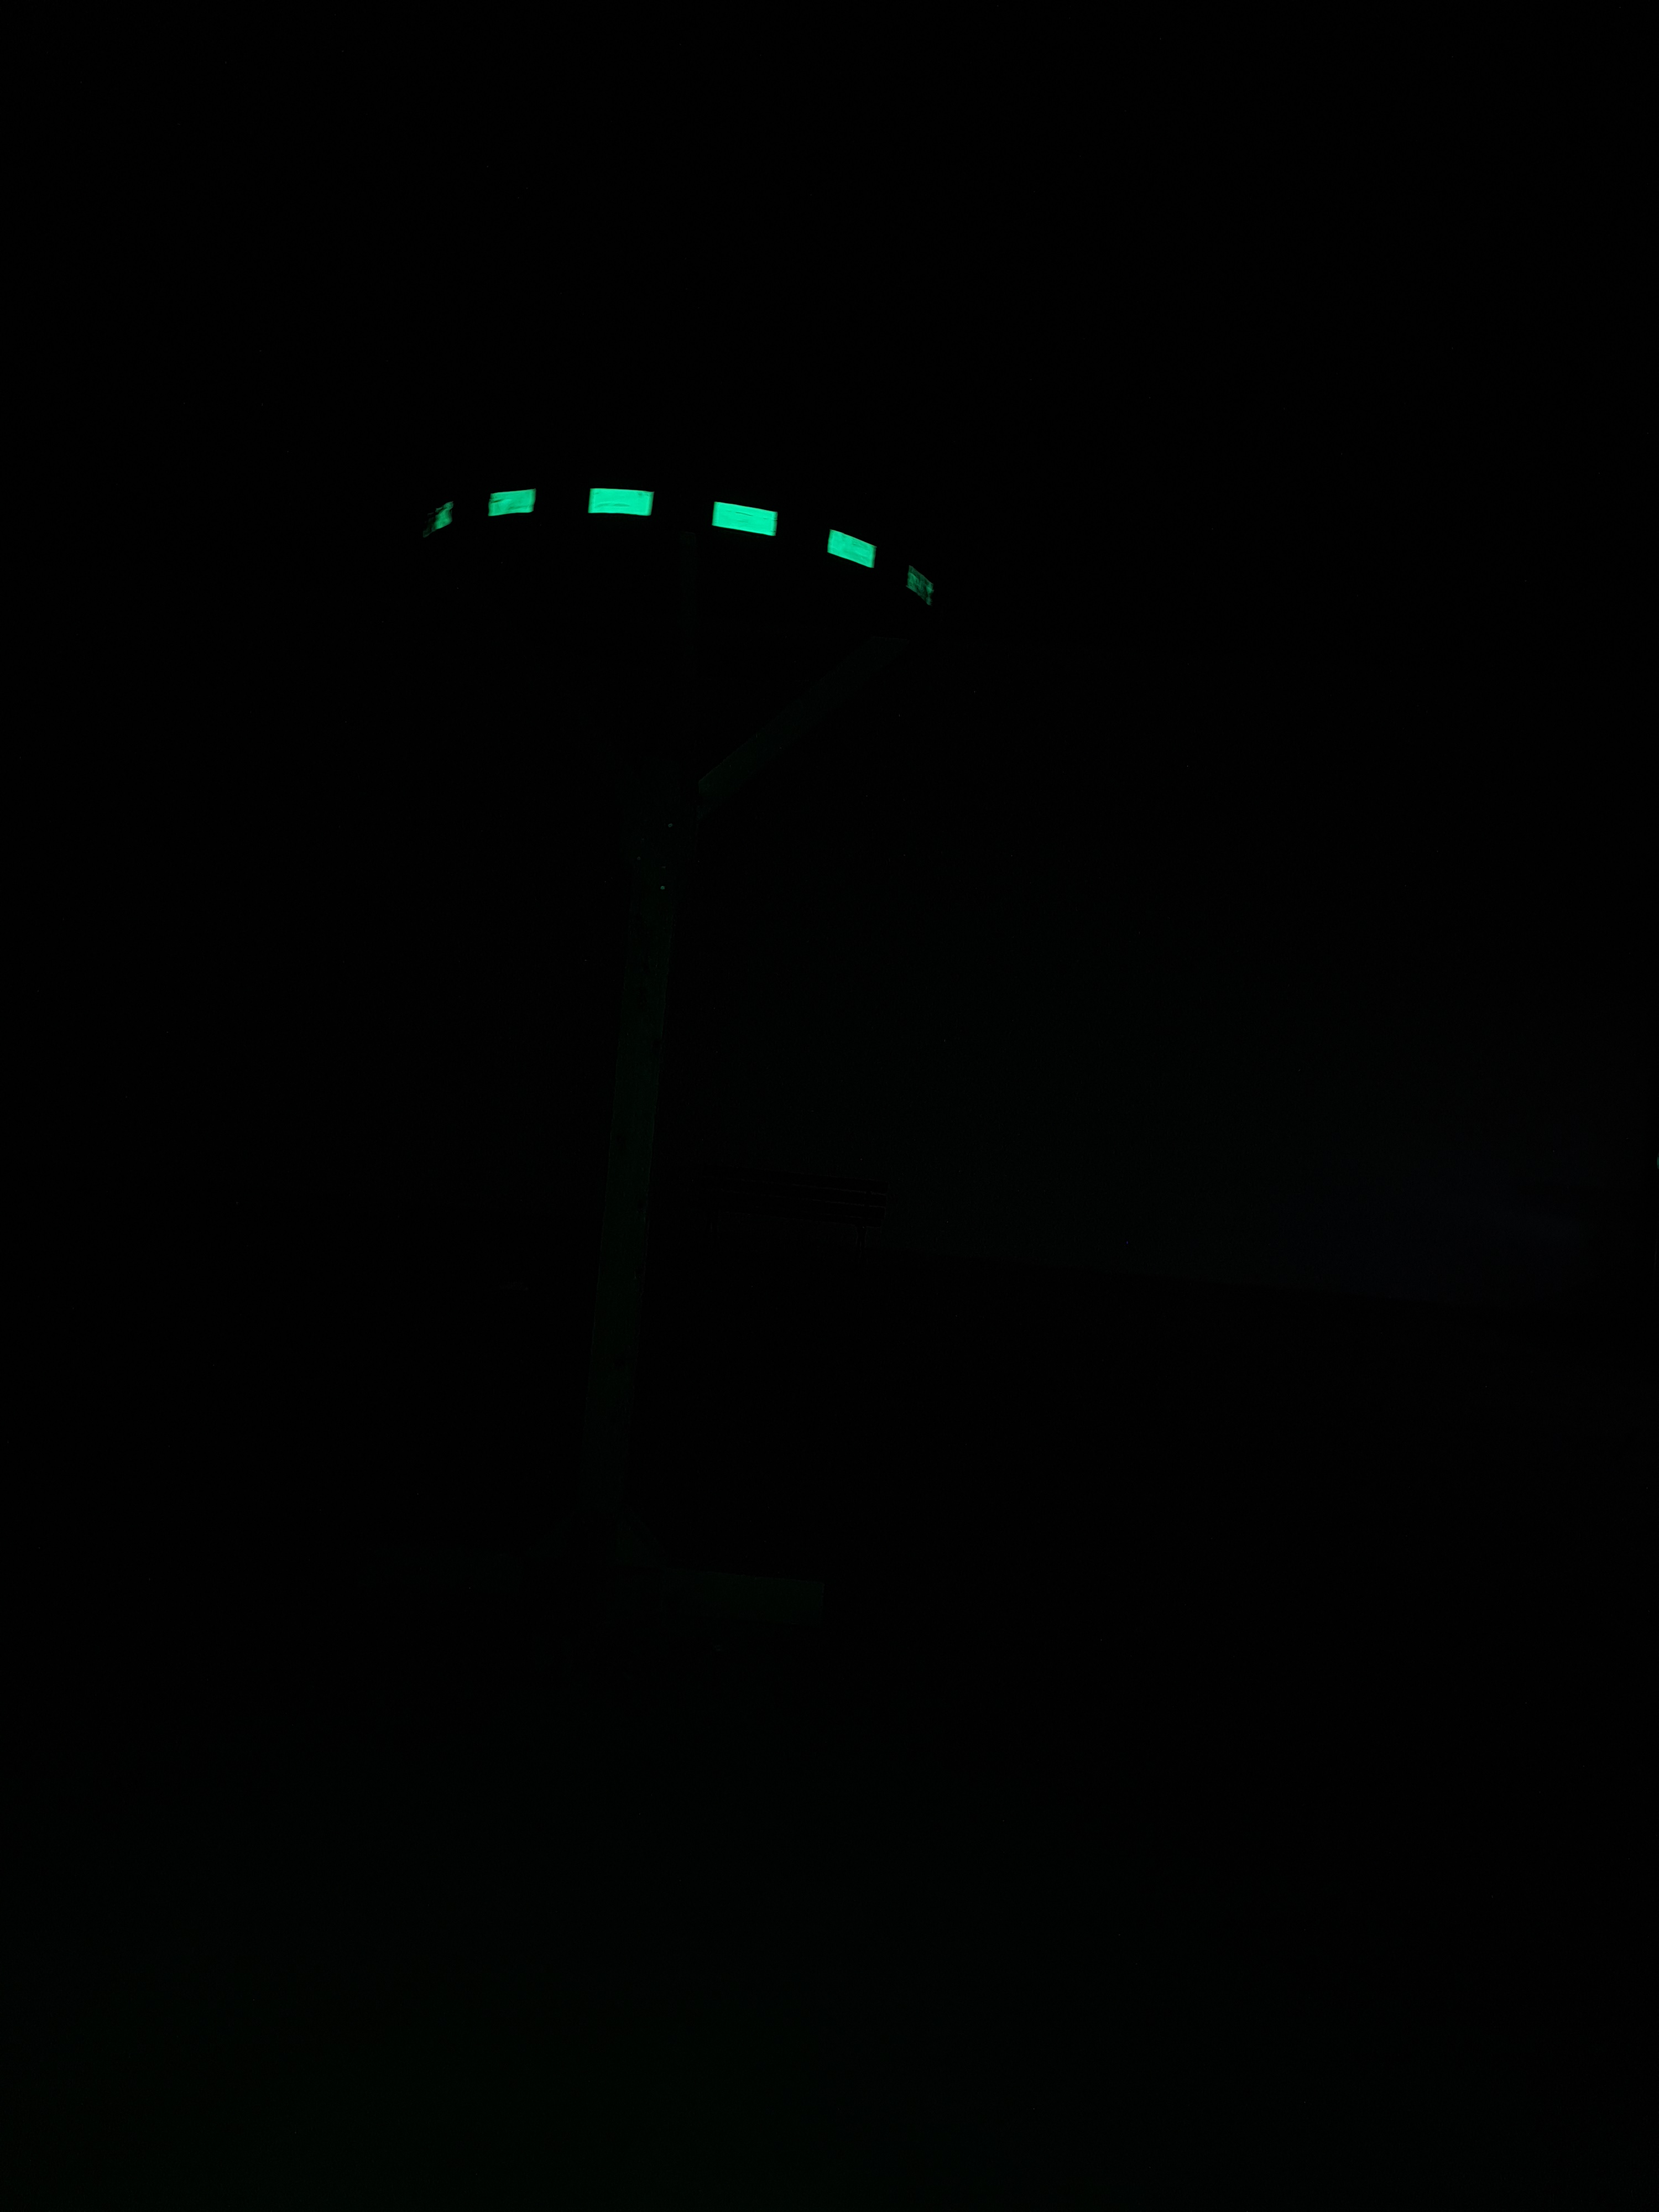hoop: (416, 479, 938, 613)
